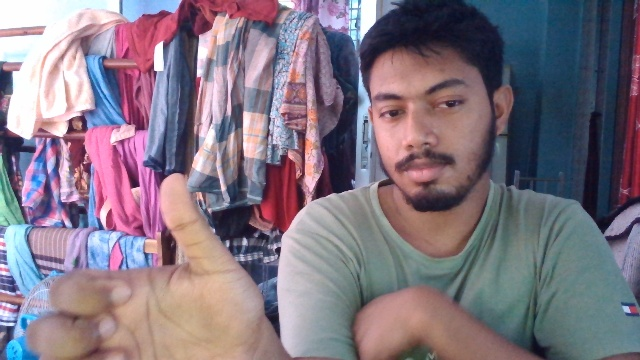yes: (31, 174, 271, 360)
